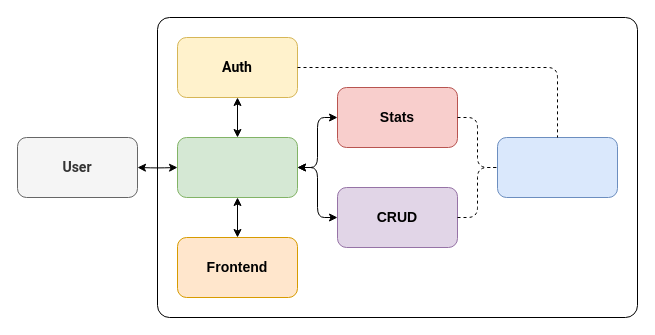
Some shapes in this 655 by 335 pixel diagram are drawn without their labels. The centre of each missing label's shape, as x and y in pixels:
Database: the point at 557,167
Nginx: the point at 237,167
